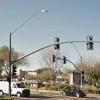Traffic light: (46, 31, 99, 54)
